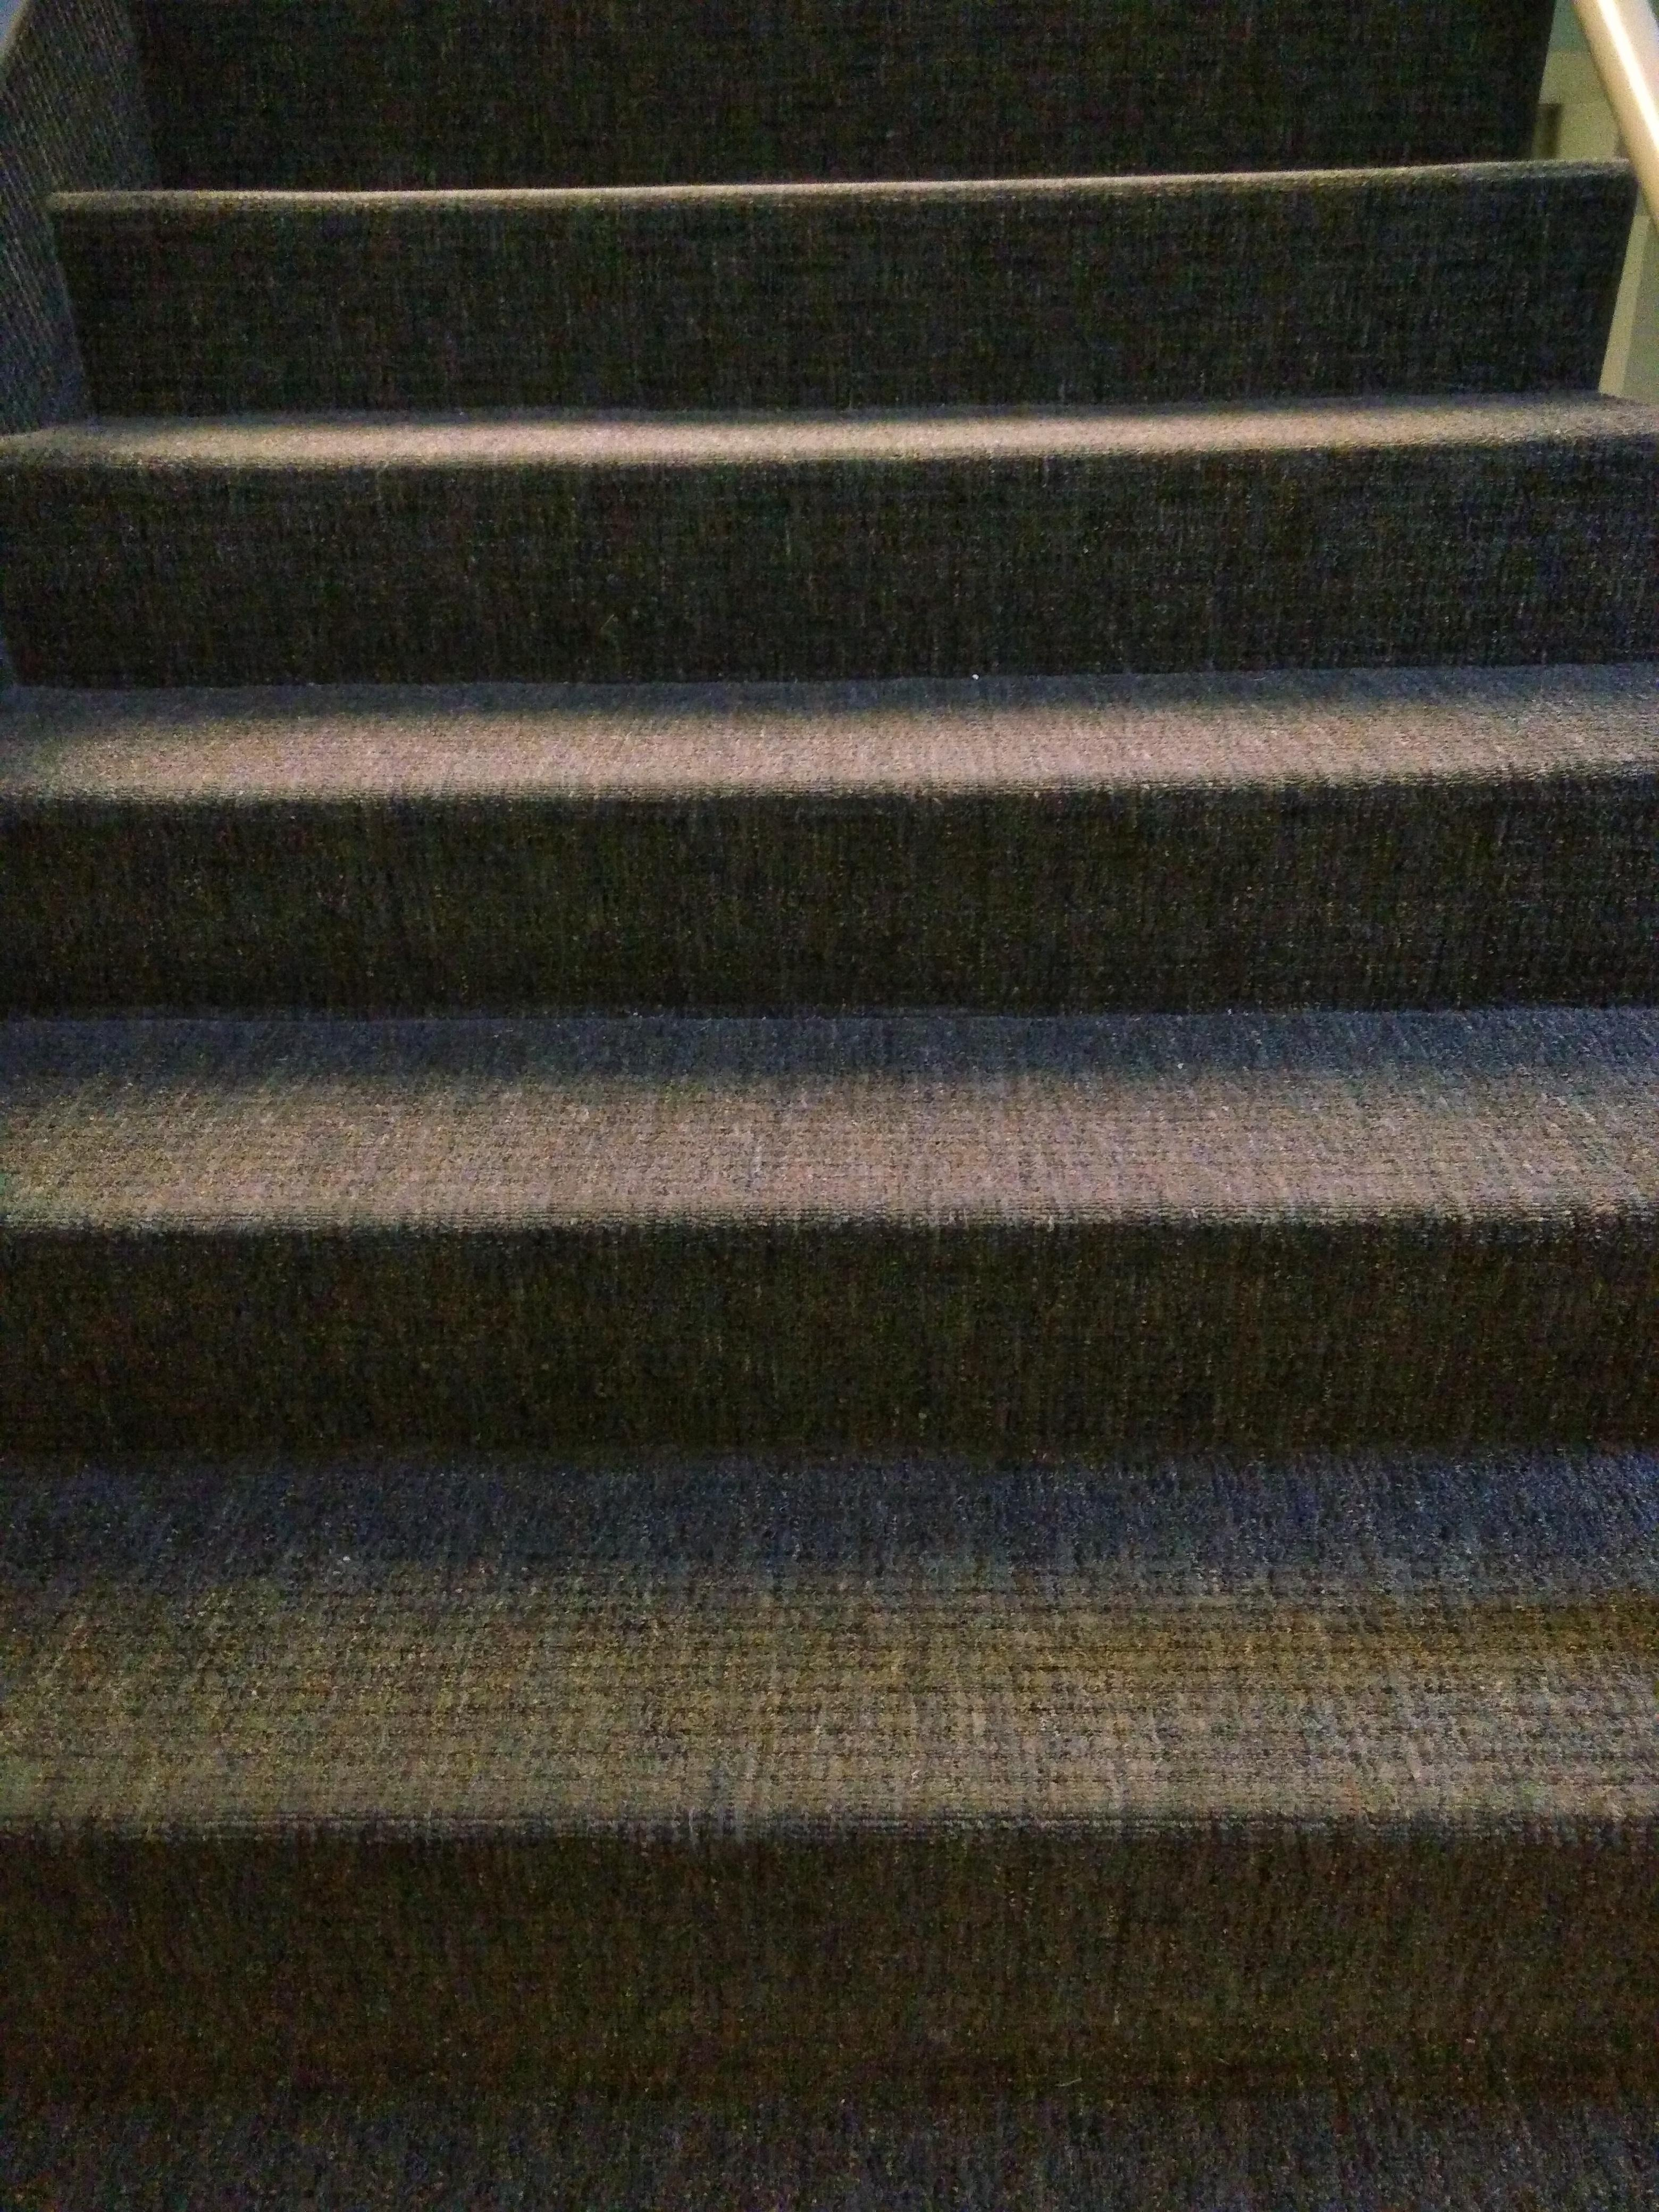stairs_up: (71, 19, 1619, 2081)
